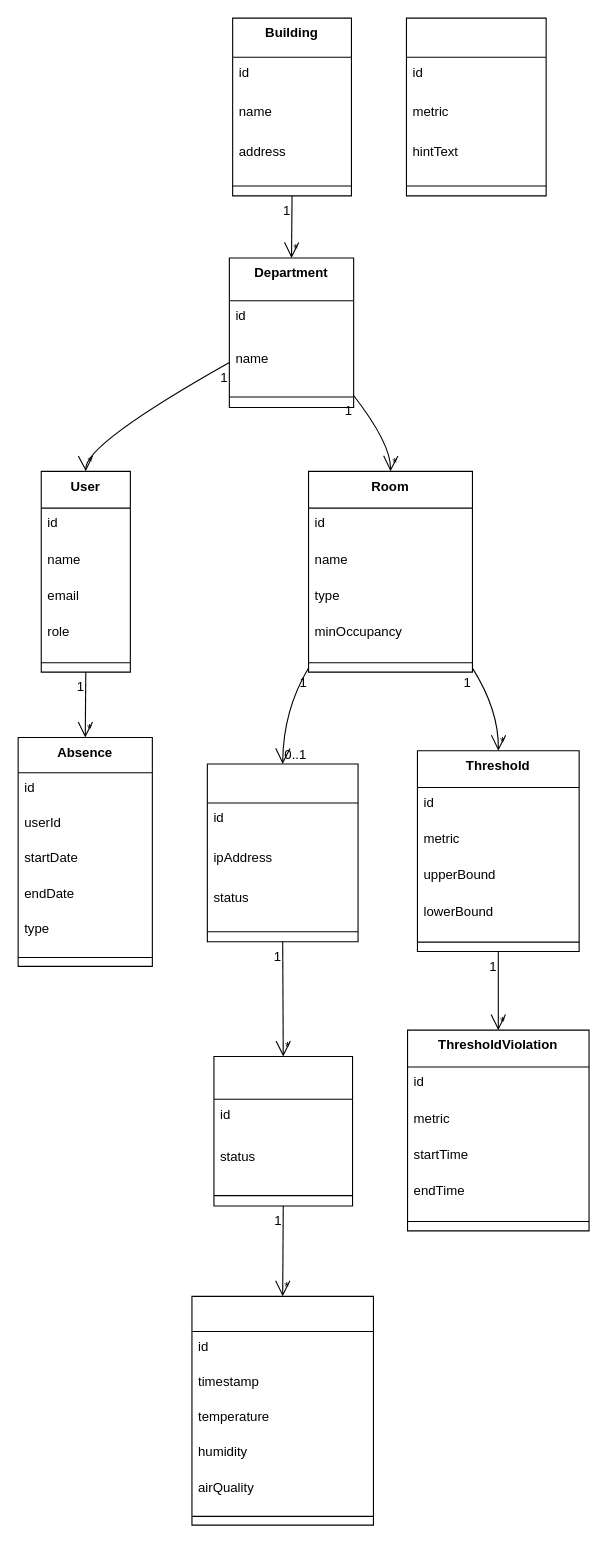
Some shapes in this 607 by 1543 pixel diagram are drawn without their labels. Here are the shapes that lost their labels. From the top down, the box of each, then its label:
(405, 17, 546, 196): ClimateHint
(206, 763, 358, 942): RaspberryPi
(213, 1055, 353, 1206): SensorStation
(191, 1295, 373, 1525): Measurement
